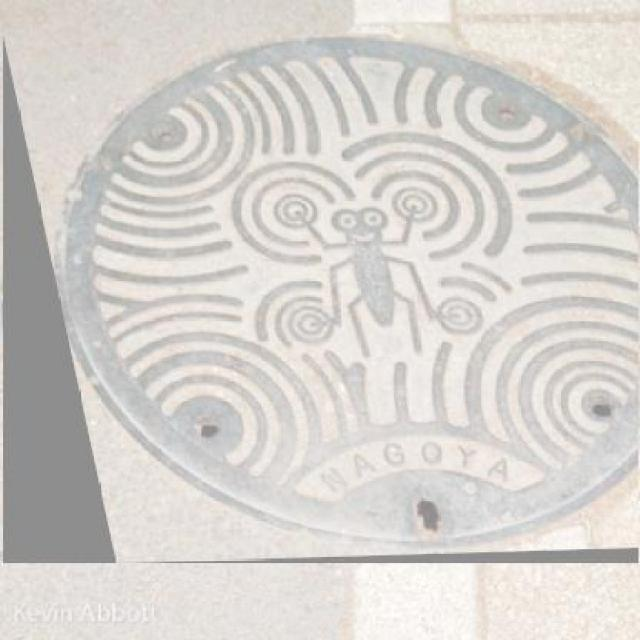Manhole: (3, 34, 639, 563)
